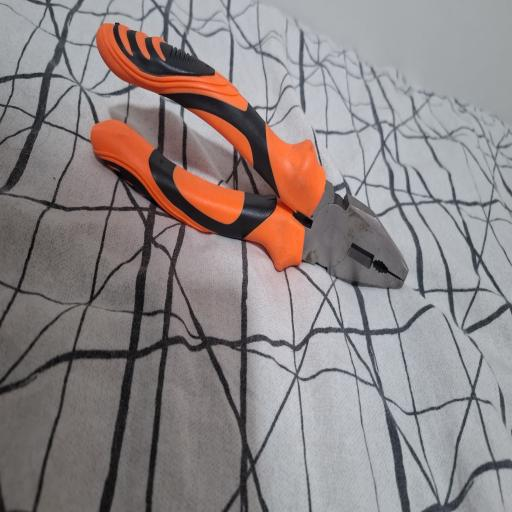alicate: (89, 20, 412, 313)
